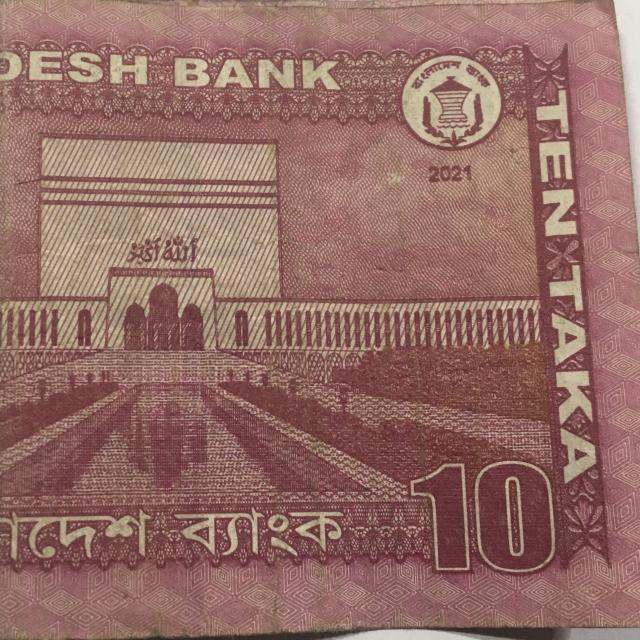Taka: (7, 4, 640, 632)
